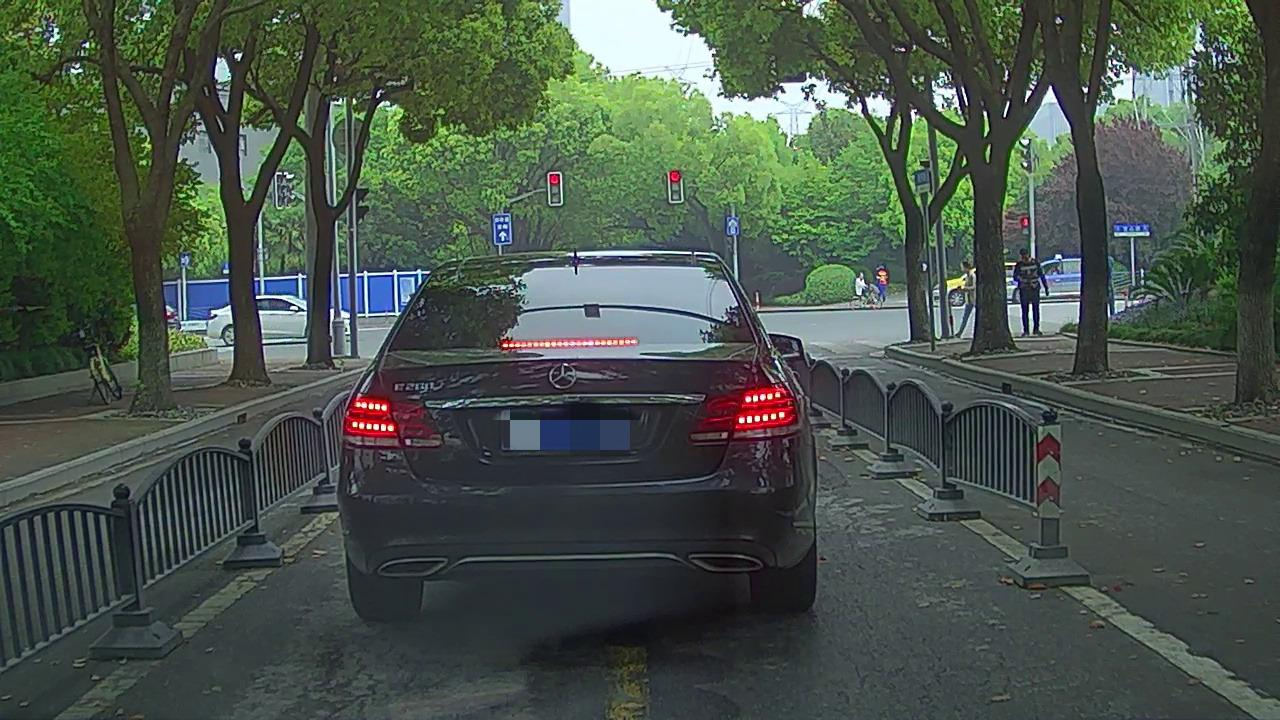traffic_light: (550, 171, 561, 207), (669, 171, 681, 202)
